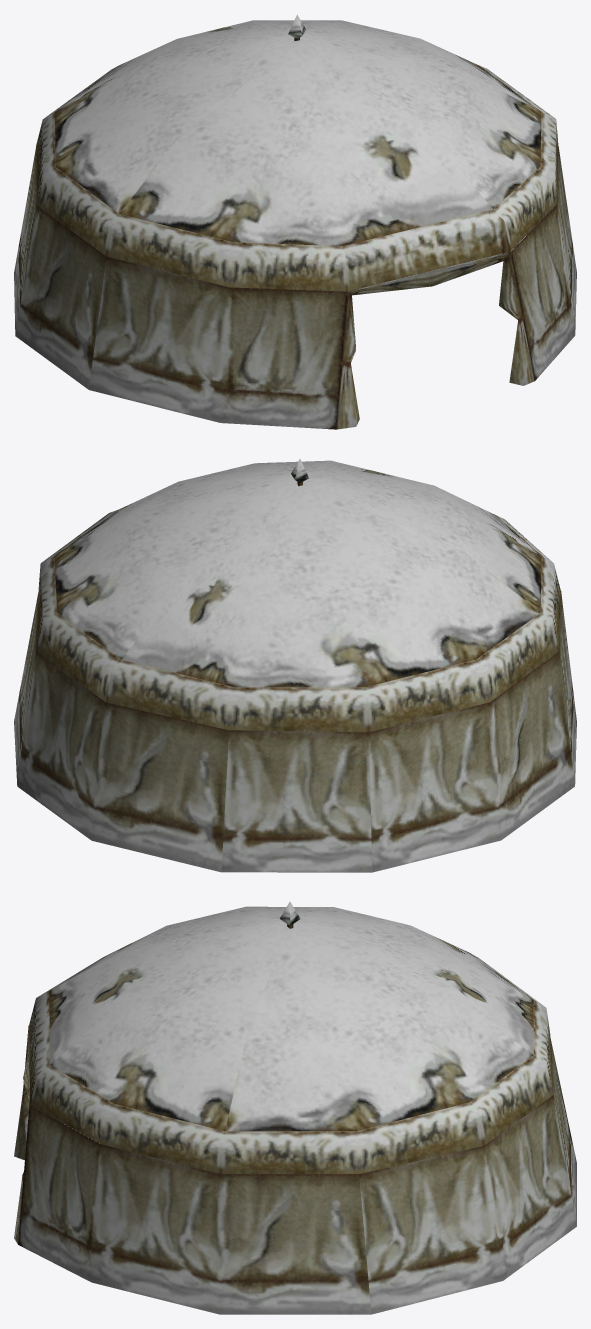
File: general_obj_tent01.fbx
3 views of the same model, one above another, from view 1: azimuth 30°, elevation 25°; view 2: azimuth 150°, elevation 25°; view 3: azimuth 270°, elevation 25° (orthographic).
Parts seen in each view (by area): view 1: Mesh02; view 2: Mesh02; view 3: Mesh02.
Part boxes in pixels (x1,y1,x2,y2): Mesh02: (14, 14, 576, 429); Mesh02: (14, 458, 576, 872); Mesh02: (14, 901, 576, 1314).
Size of the model in its own units: 11.36 by 6.53 by 11.34.
